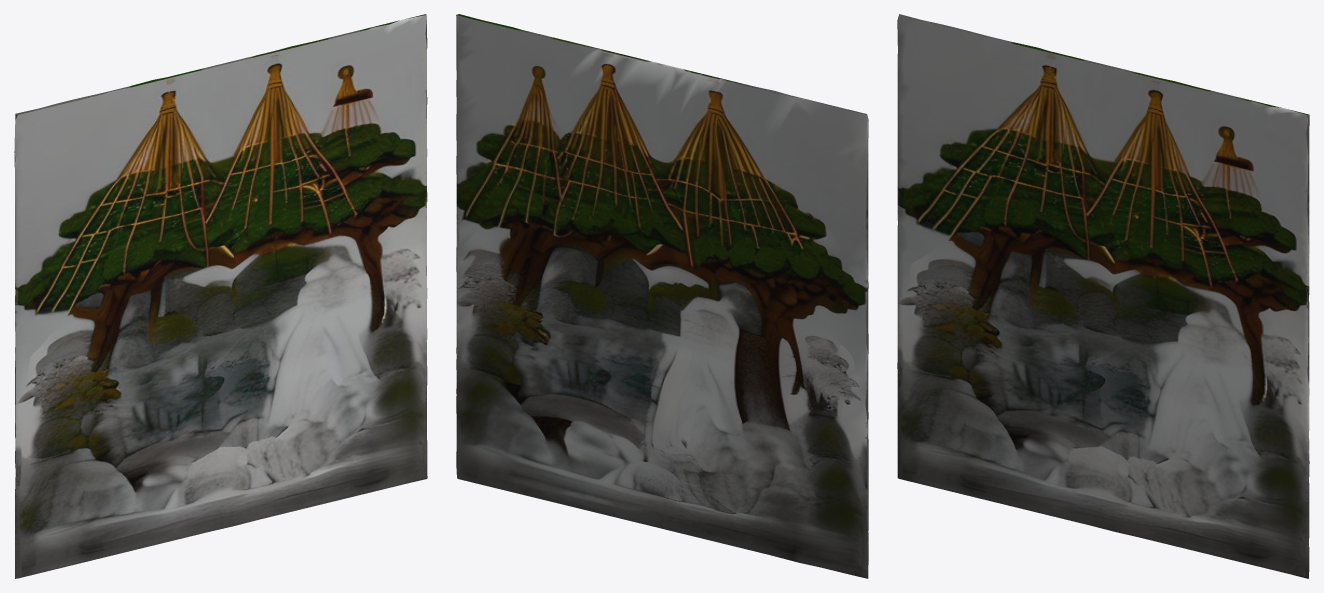
The model's file is kenroku-en.glb.
3 views of the same model, side by side, from view 1: azimuth 30°, elevation 25°; view 2: azimuth 150°, elevation 25°; view 3: azimuth 330°, elevation 25° (orthographic).
Visible parts, largest first — view 1: logan-textured.obj; view 2: logan-textured.obj; view 3: logan-textured.obj.
Boxes of the visible parts, x1,y1,x2,y2 form: logan-textured.obj: (14,14,427,578); logan-textured.obj: (456,14,868,578); logan-textured.obj: (897,14,1309,578).
Bounding box in the file's own units: 0.928 × 1 × 0.00633.
Materials: 1 (1 with a texture image).
